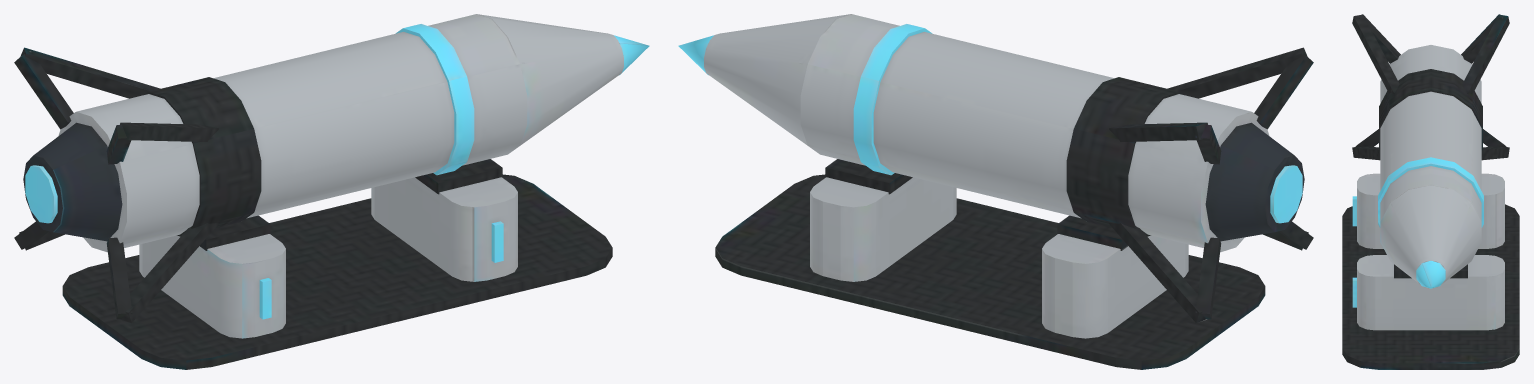
The model's file is enterprise_rocket.glb.
3 views of the same model, side by side, from view 1: azimuth 30°, elevation 25°; view 2: azimuth 150°, elevation 25°; view 3: azimuth 270°, elevation 25° (orthographic). The views are drawn at different scales.
Visible parts, largest first — view 1: te_res_enterprise_rocket; view 2: te_res_enterprise_rocket; view 3: te_res_enterprise_rocket.
Boxes of the visible parts, left/top/right/bottom form: te_res_enterprise_rocket: left=14, top=14, right=649, bottom=369; te_res_enterprise_rocket: left=678, top=14, right=1313, bottom=369; te_res_enterprise_rocket: left=1342, top=14, right=1519, bottom=369.
Size of the model in its own units: 0.684 by 0.2705 by 0.24.
Materials: 1 (1 with a texture image).
